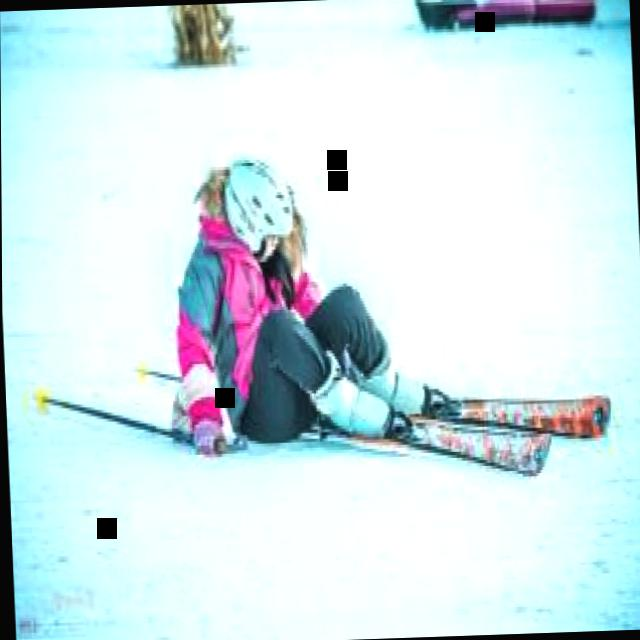Fall-Detected: (153, 108, 465, 468)
